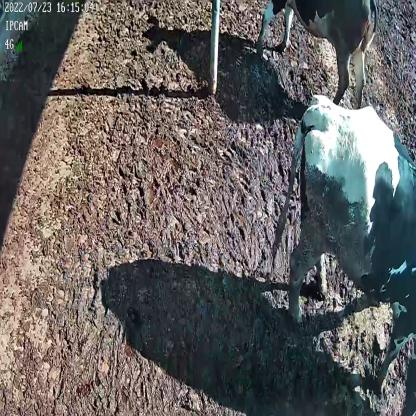cow: (271, 95, 416, 391), (256, 0, 377, 111)
